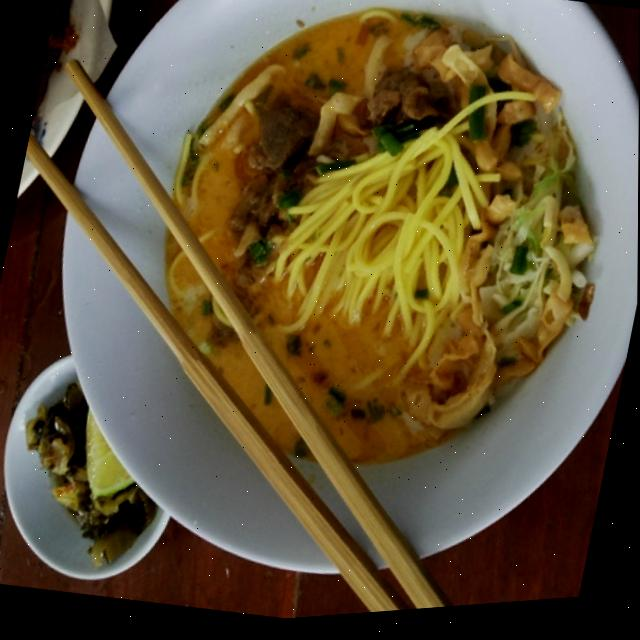面条主食: (89, 0, 633, 535)
